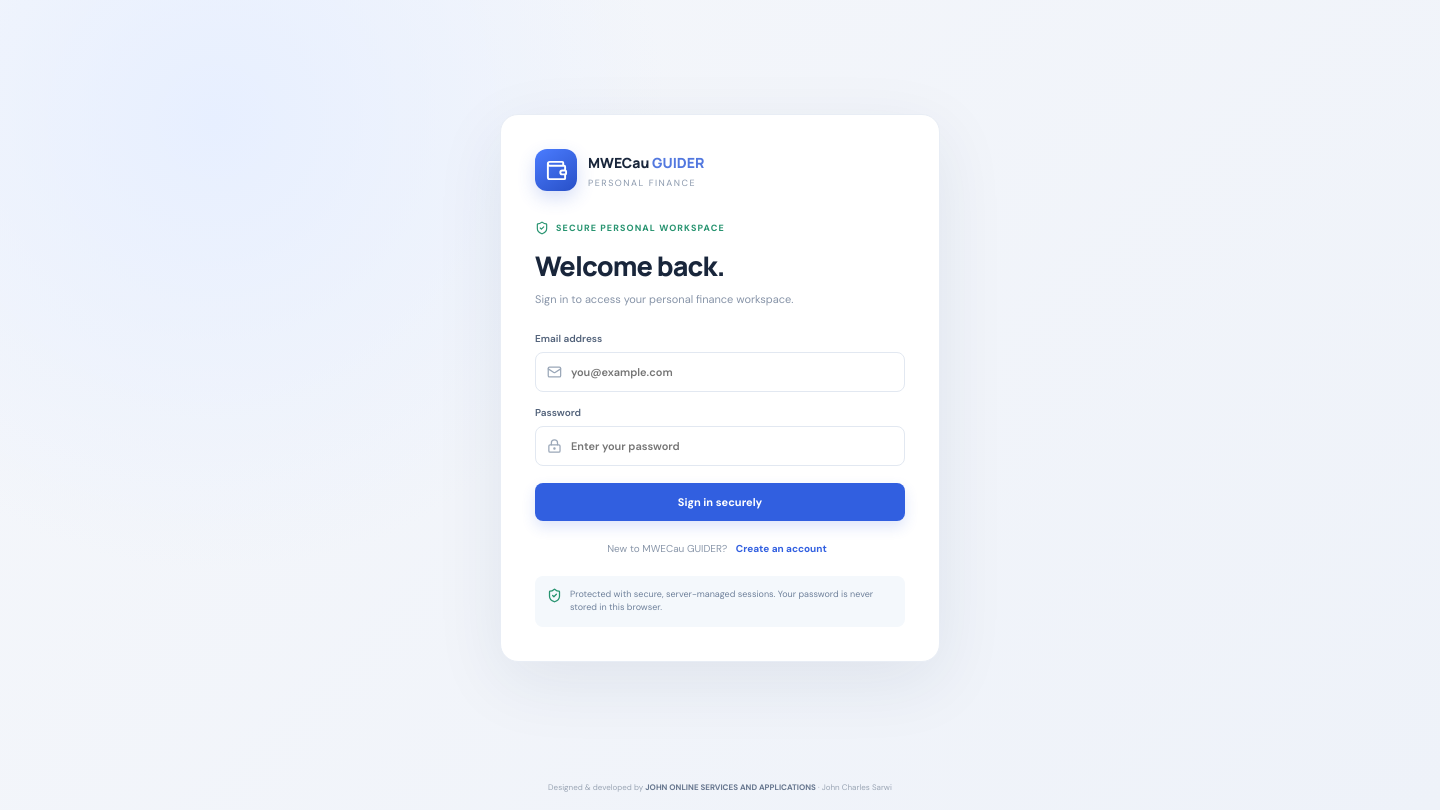
Scenario: MWECau GUIDER live finance workspace › saves the latest authenticated finance data as an encrypted offline snapshot
Expected: the heading "Welcome back." is shown, [535,247,724,284]
Type "test@example.com" into the field labelled "Email address" at (732, 372), box [571,353,893,391]
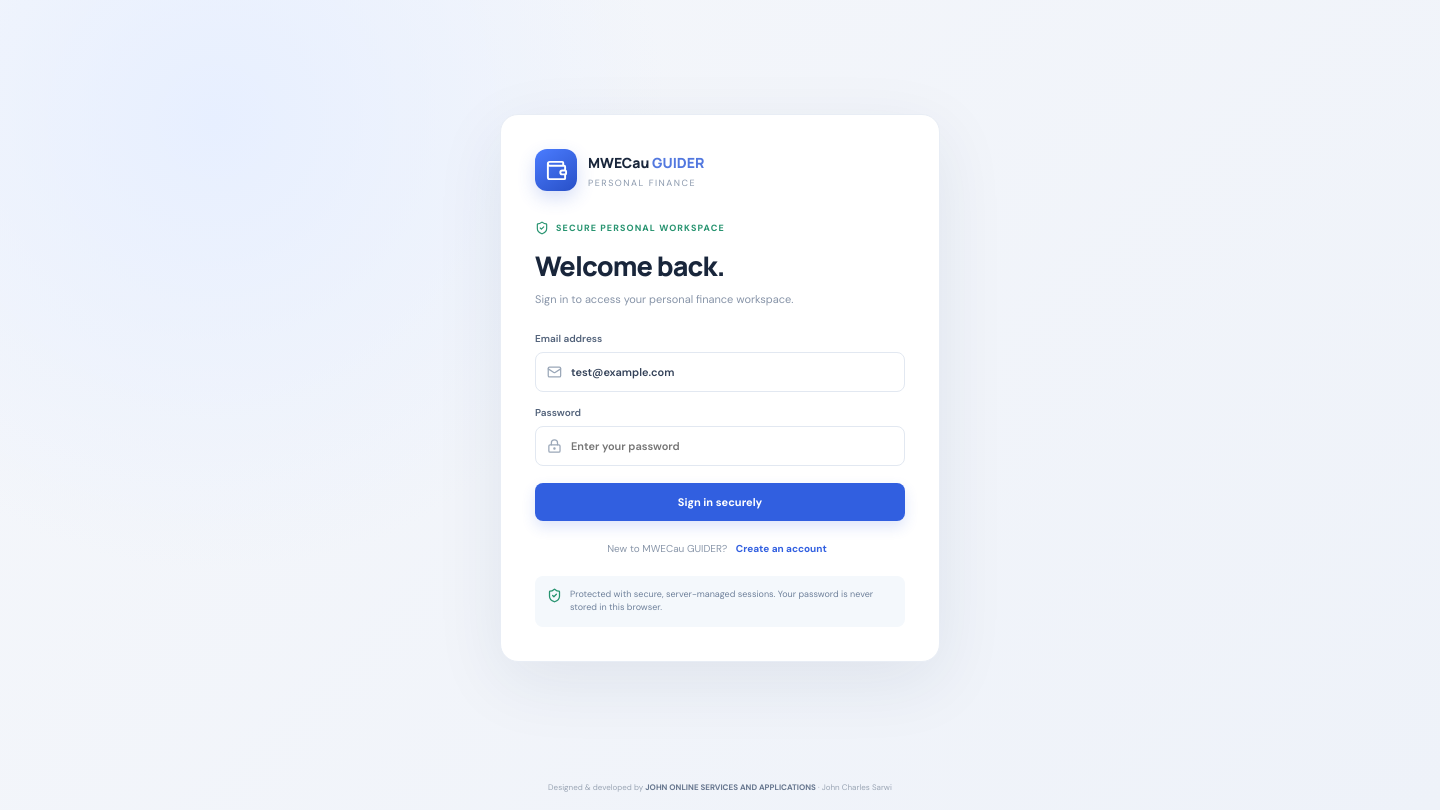
Type "test-password" into the password field labelled "Password" at (732, 446), box [571,427,893,465]
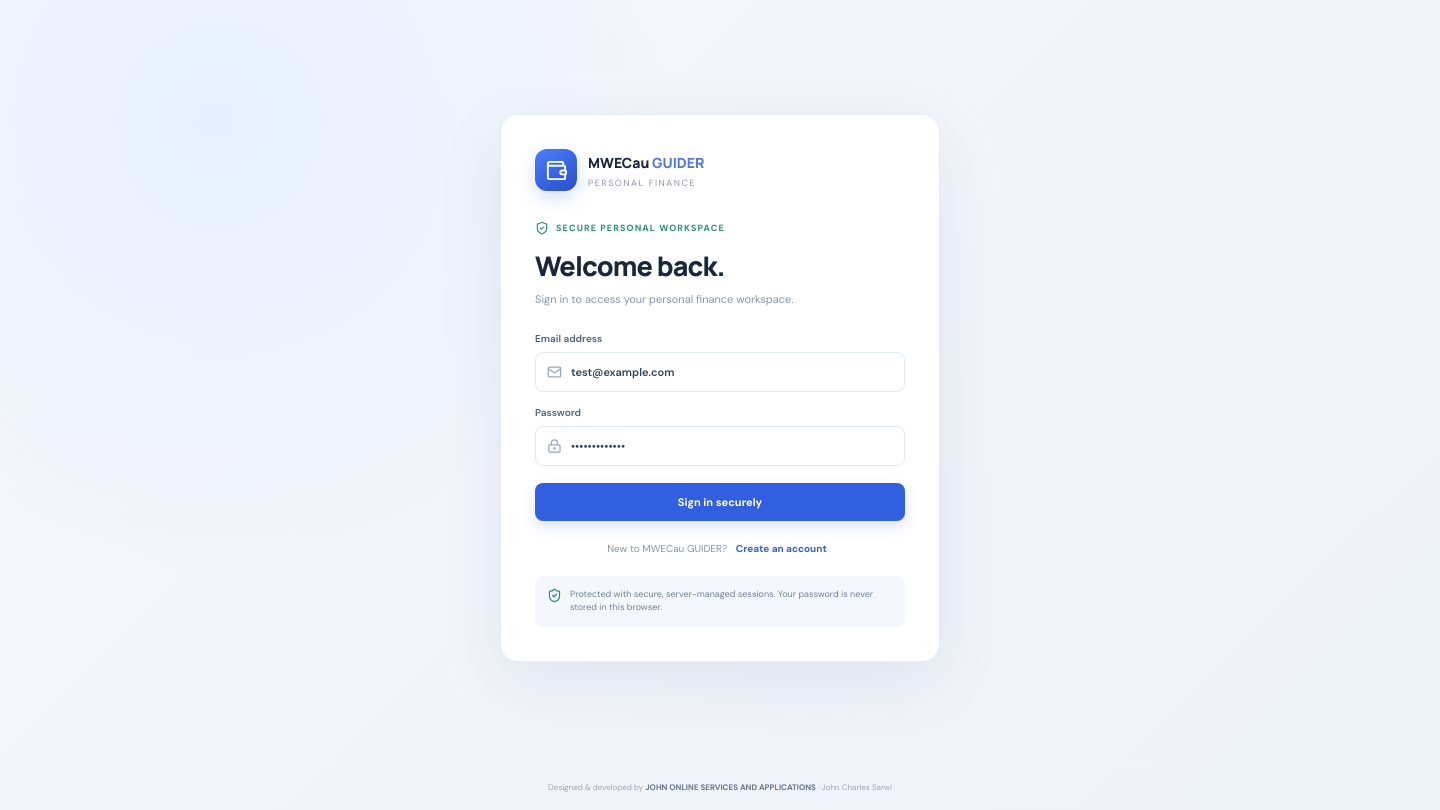
Click the button "Sign in securely" at (720, 502), box [535,483,905,521]
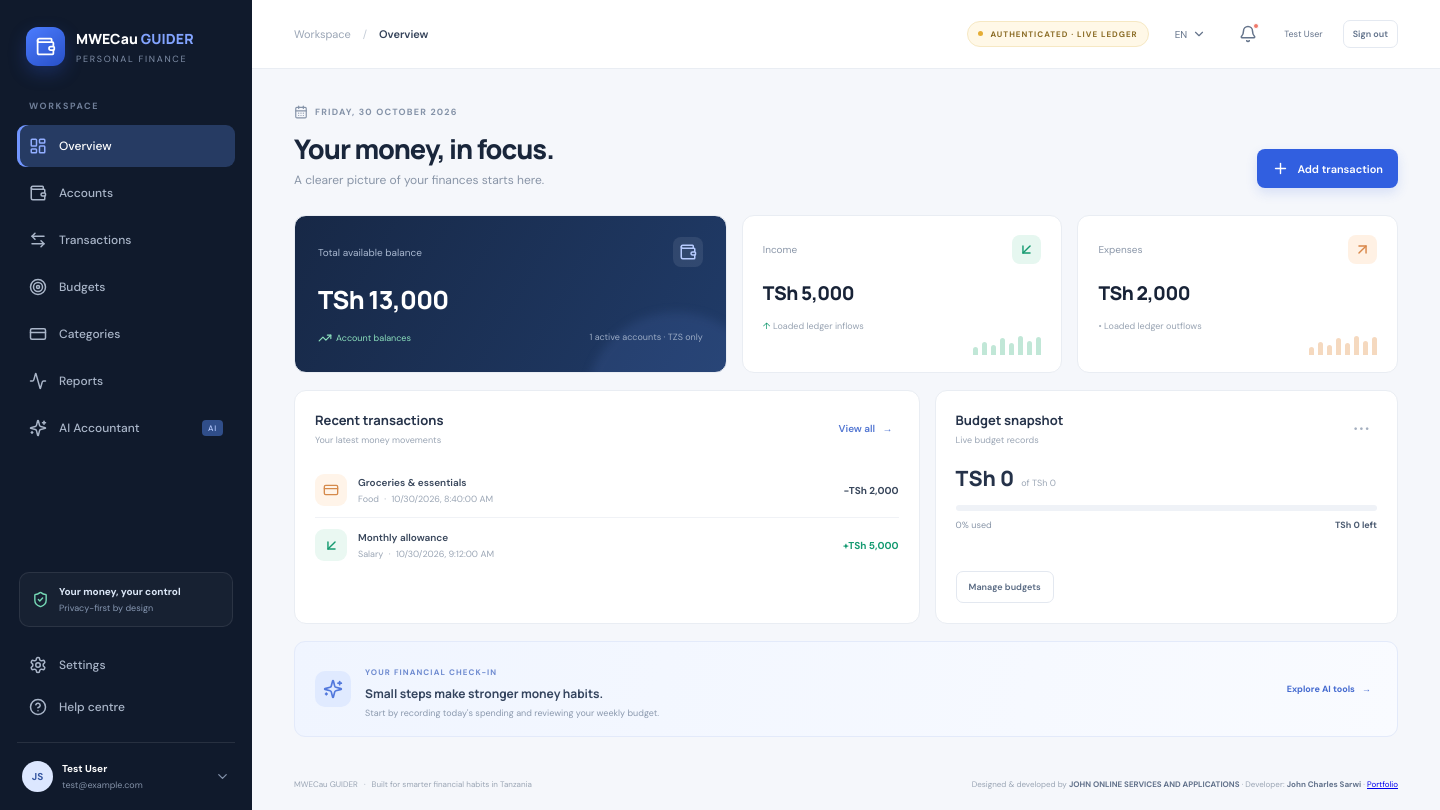
Expected: the heading "Your money, in focus." is shown, [294,130,554,167]
Expected: the text "Groceries & essentials" is shown, [358,476,466,488]
